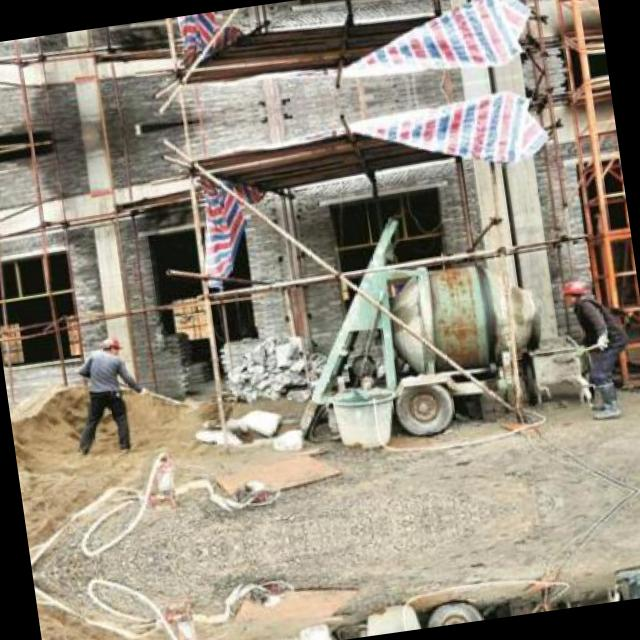helmet: (553, 274, 589, 308), (95, 331, 126, 359)
